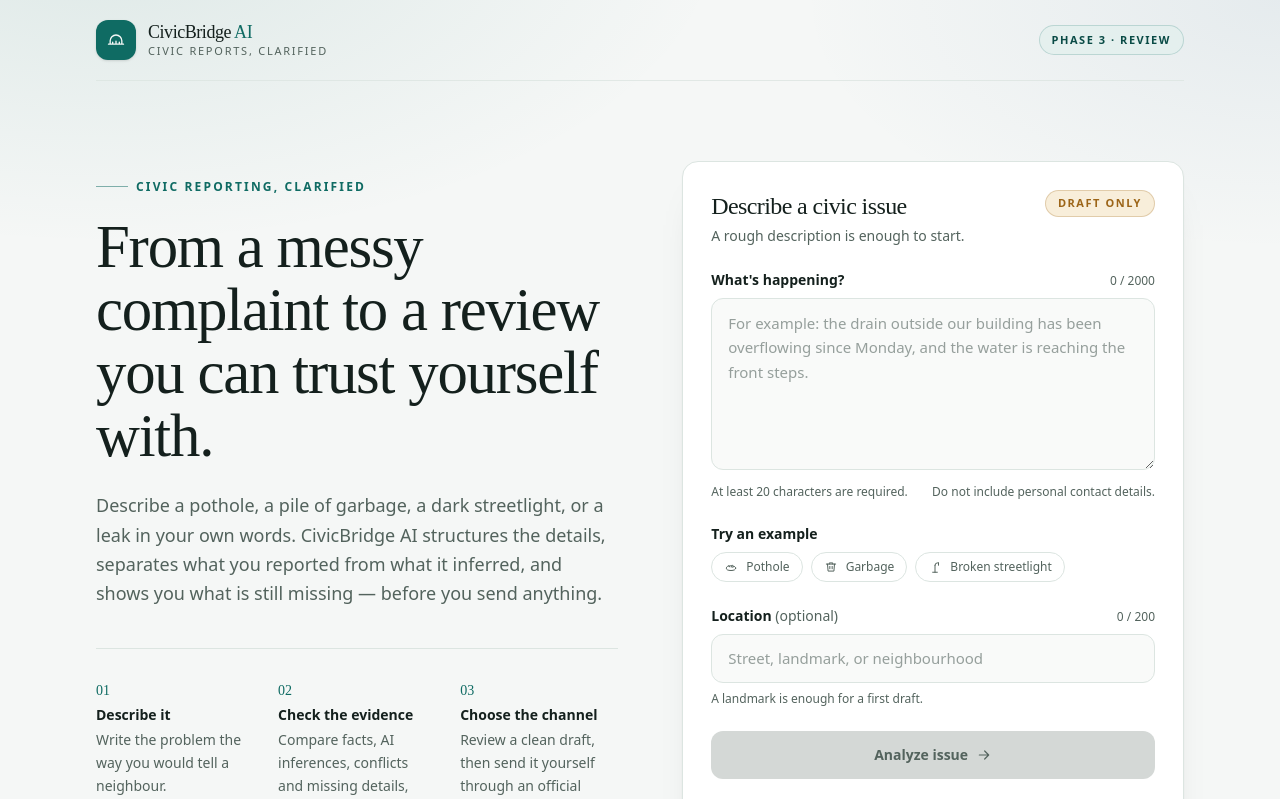
it: CivicBridge analysis flow › populates the form from the pothole example
Click the button "Pothole".
click(757, 567)  # box x1=711 y1=552 x2=803 y2=582
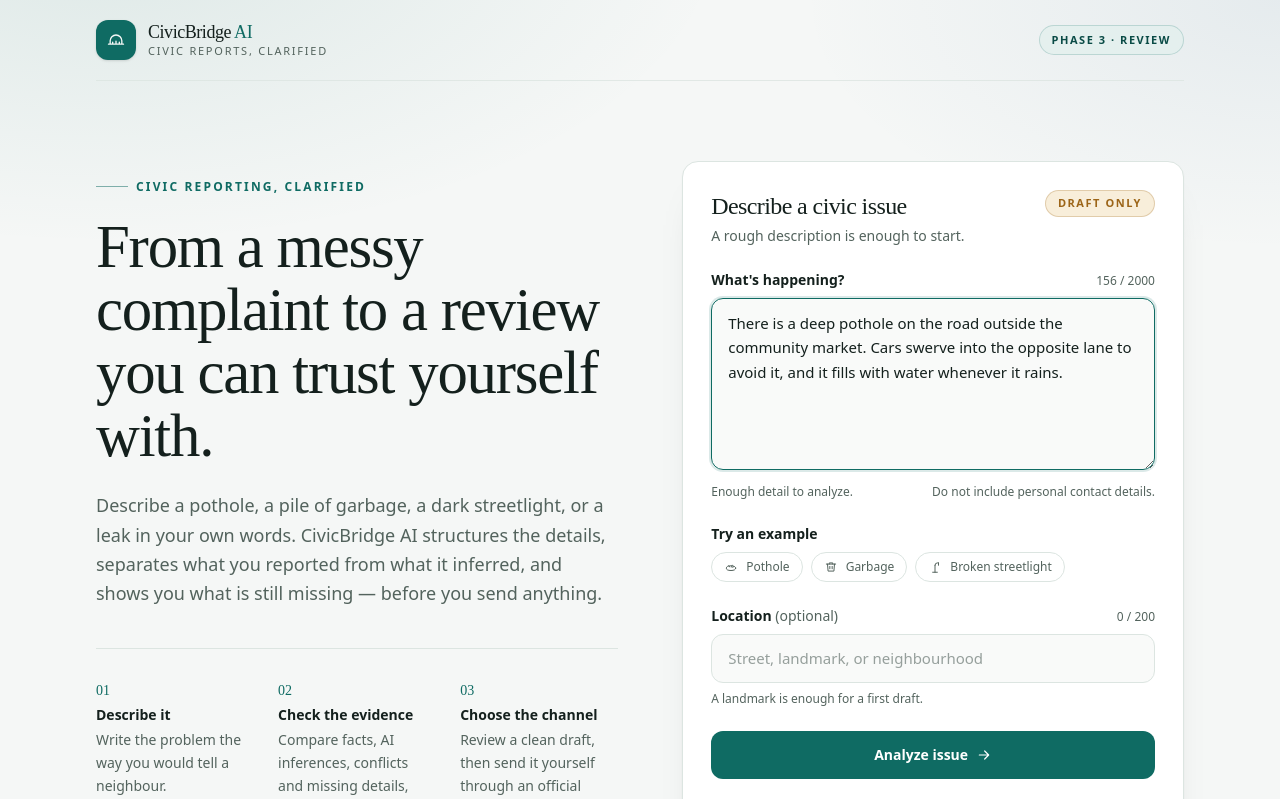
Expected: the text box labelled "What's happening?" holds "There is a deep pothole on the road outside the community market. Cars swerve into the opposite lane to avoid it, and it fills with water whenever it rains.", x1=711 y1=298 x2=1155 y2=470
